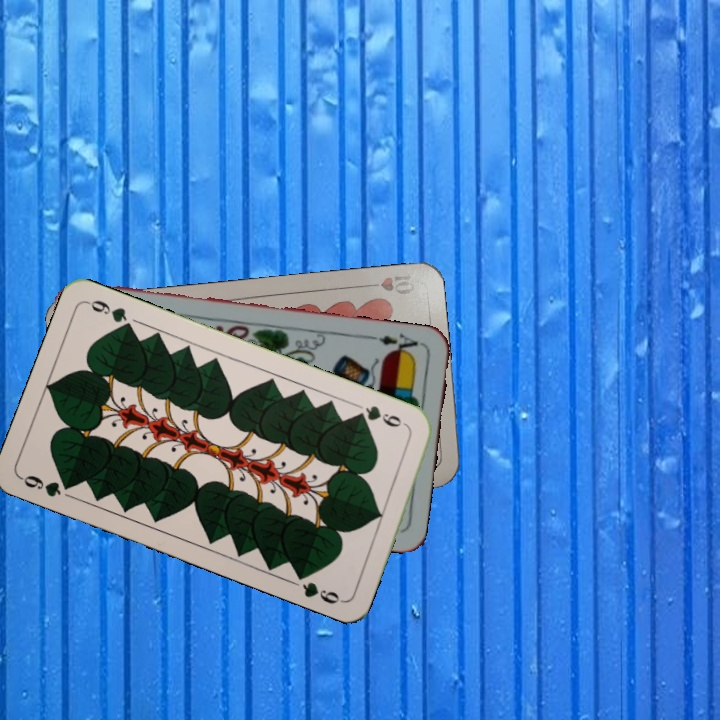EA: (366, 329, 425, 358)
G9: (352, 401, 411, 431), (17, 471, 78, 500)
H10: (358, 270, 418, 298)
